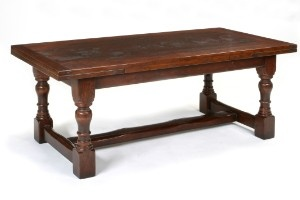obstacle: (11, 28, 296, 178)
